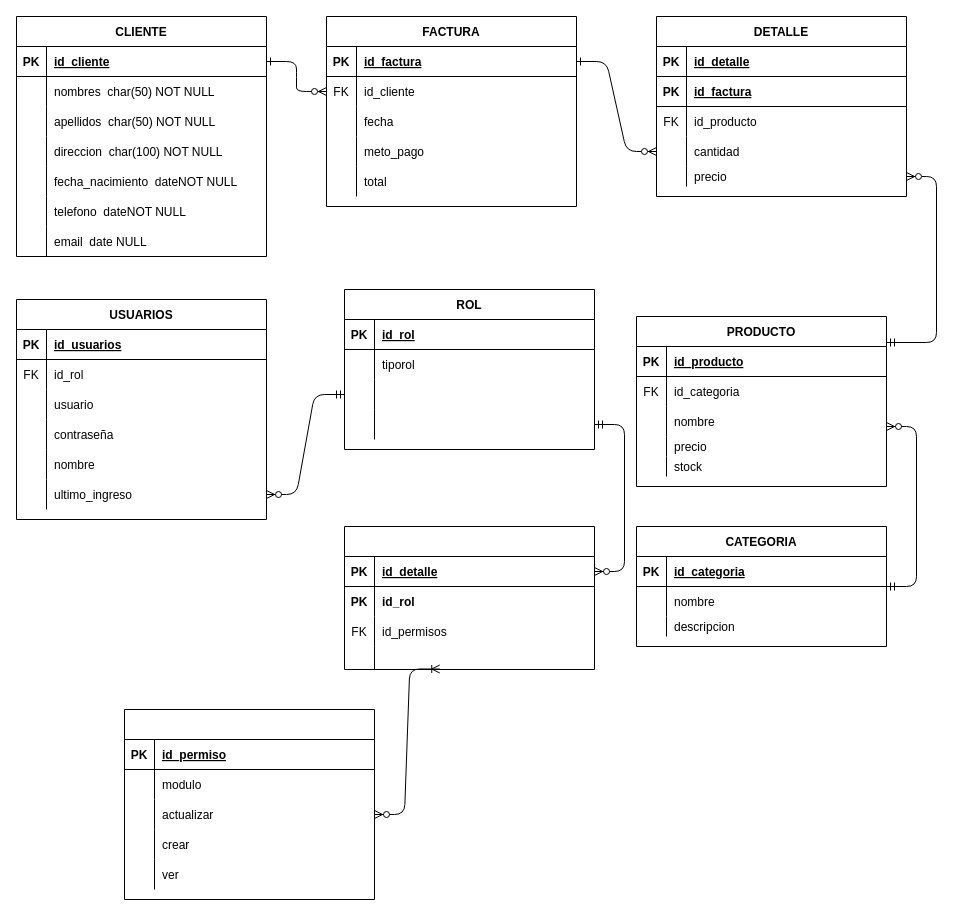
This 953x916 diagram has some shape labels left out. Here are the shapes that lost their labels. From the top down, the box of each, then its label:
(344, 526, 594, 670): DETALLE_ROL
(124, 708, 374, 900): PÉRMISOS
